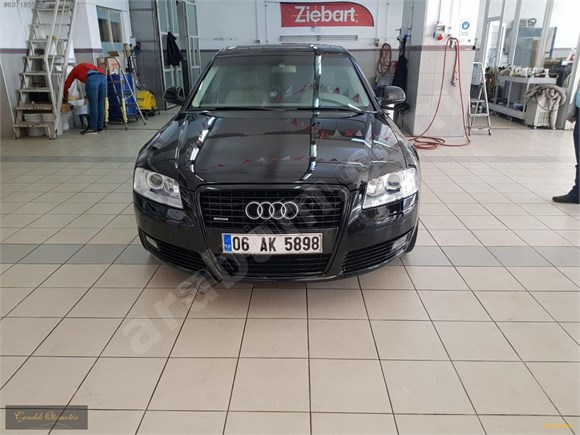audi: (241, 197, 300, 225)
